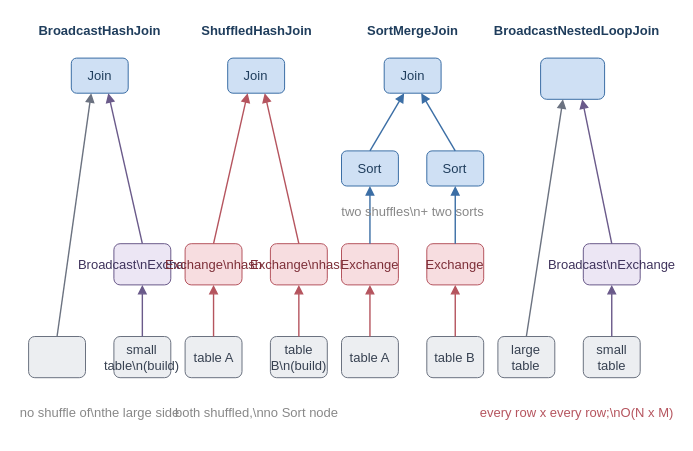
Some shapes in this 693 by 451 pixel diagram are drawn without their labels. The box of each missing label's shape, as (x1, y1, x2, y2) in pixels:
Join\n(non-equi): (540, 57, 605, 99)
large table\n(probe): (28, 336, 86, 378)
